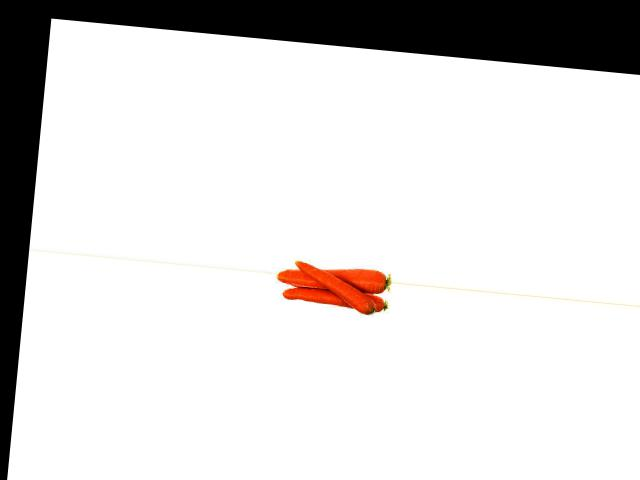carrot: (272, 260, 392, 293)
